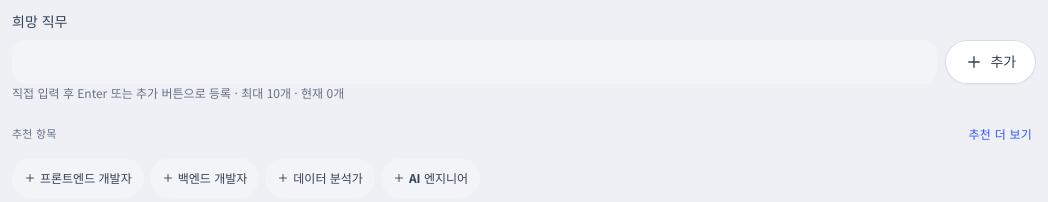
it: StringListInput suggestions and presets › shows only a concise preset set until the user expands it
Click the button with class "string-list__preset-toggle". click: (1000, 134)
box: top-left (964, 118), bottom-right (1036, 150)
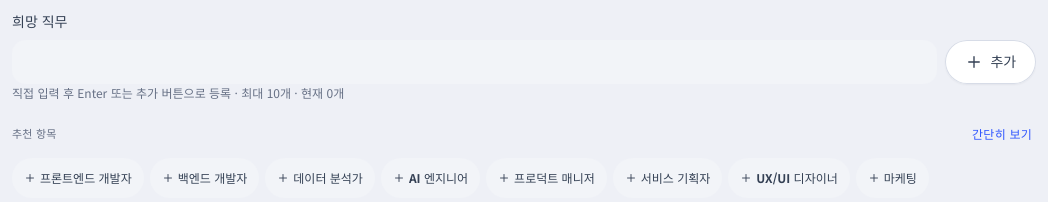
Check: the button with class "string-list__preset-toggle" is expanded, box top-left (968, 118), bottom-right (1036, 150)
